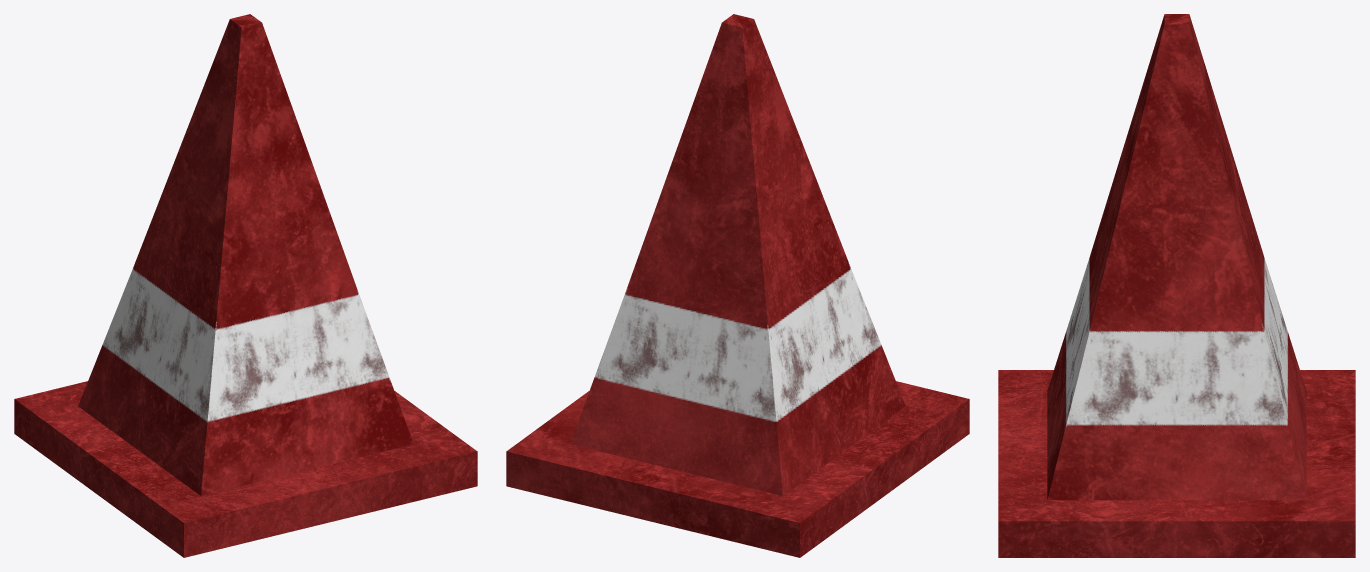
3 renders of one model, left to right at view 1: azimuth 30°, elevation 25°; view 2: azimuth 150°, elevation 25°; view 3: azimuth 270°, elevation 25°, orthographic. The views are drawn at different scales.
Parts seen in each view (by area): view 1: pCube1; view 2: pCube1; view 3: pCube1.
Boxes of the visible parts, x1,y1,x2,y2 form: pCube1: [14, 14, 477, 557]; pCube1: [506, 14, 969, 557]; pCube1: [998, 14, 1355, 557].
Size of the model in its own units: 3.8 by 5.44 by 3.8.
1 material, 1 textured.
